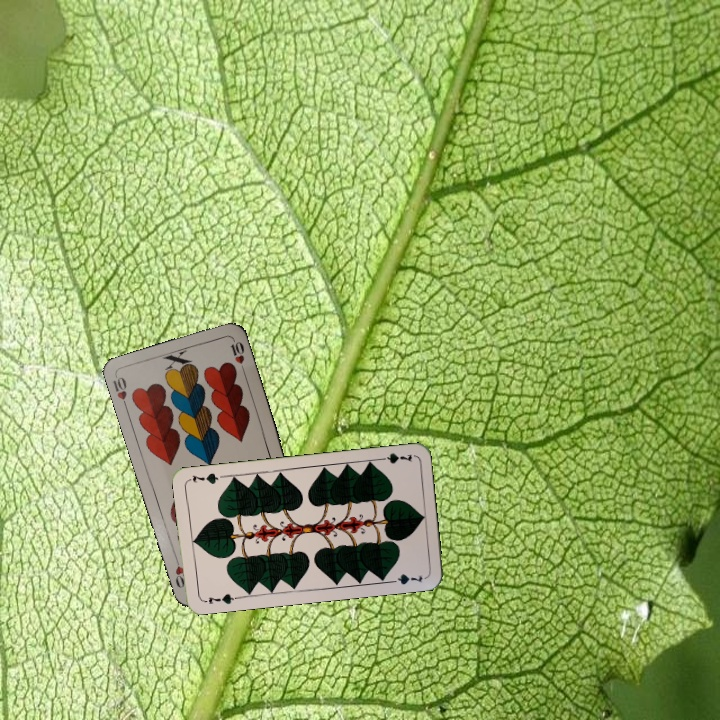G7: (374, 449, 415, 466), (199, 590, 240, 607)
H10: (109, 372, 130, 412)
